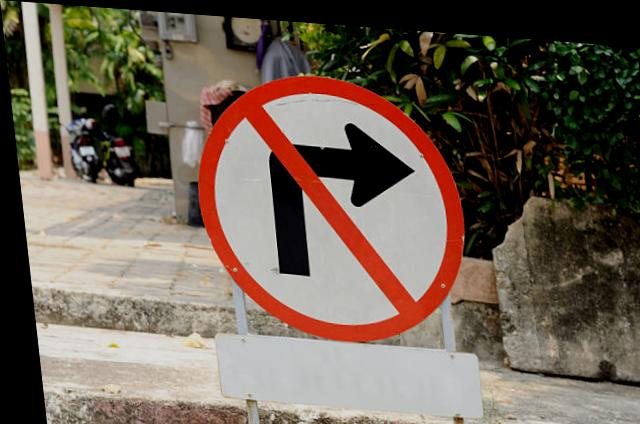not_turn_right: (180, 55, 472, 349)
